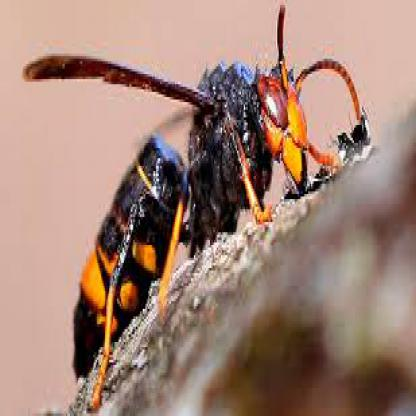asian: (22, 20, 376, 386)
